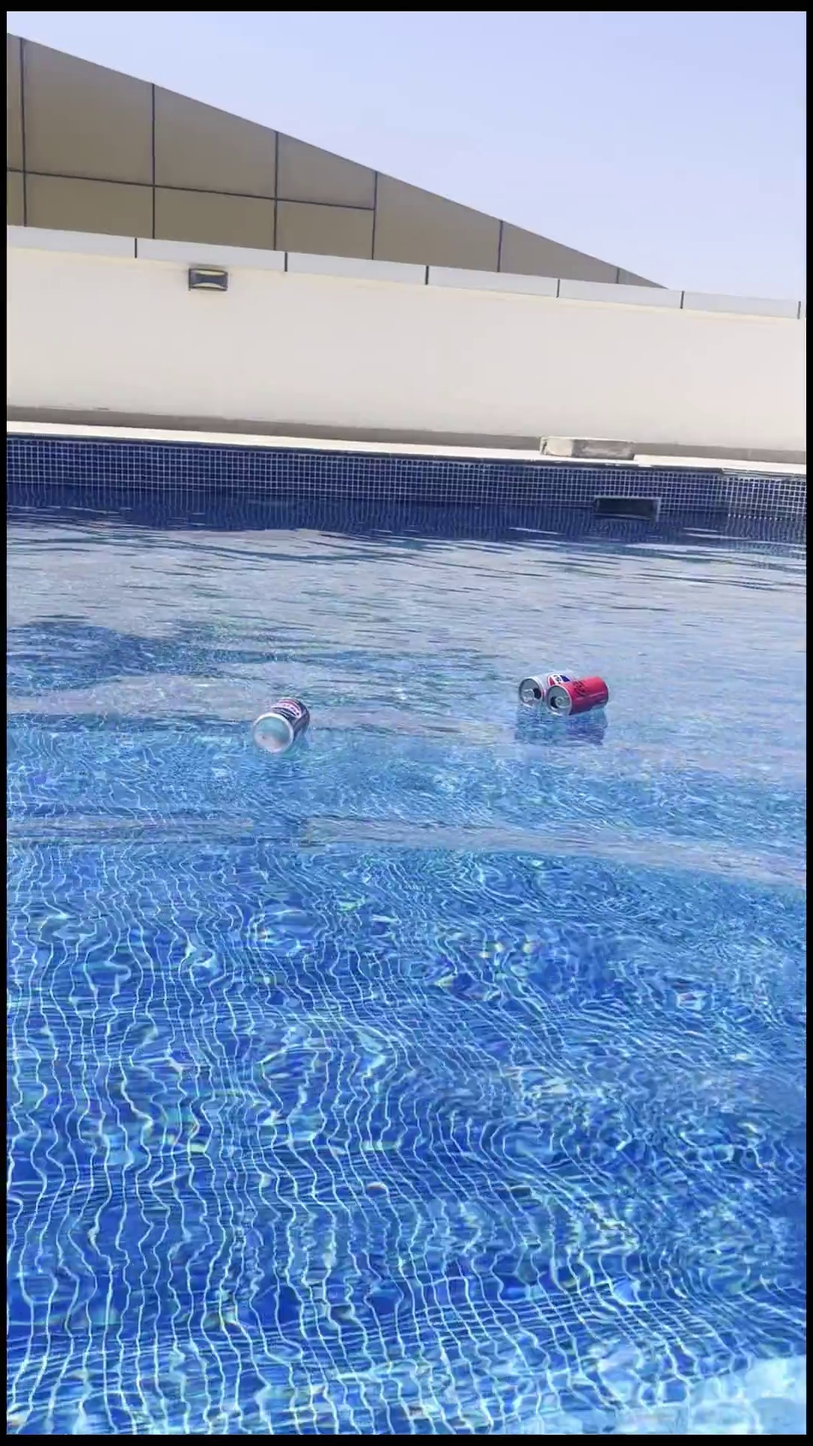debris: (253, 675, 309, 763), (513, 651, 577, 717), (546, 664, 610, 725)
